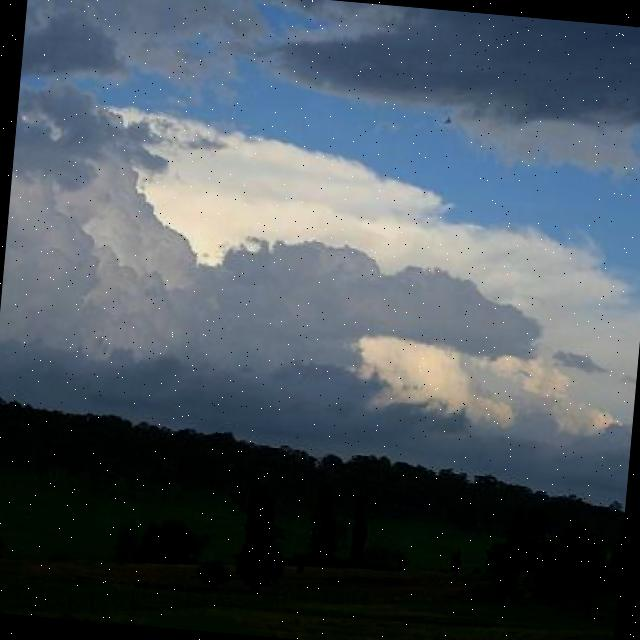St: (1, 29, 640, 455)
